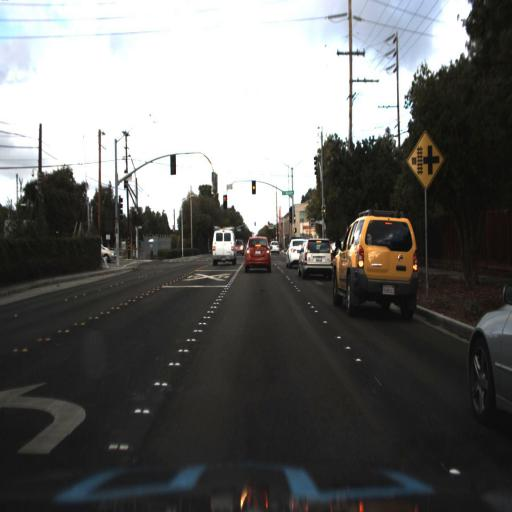car: (327, 204, 429, 325), (466, 272, 512, 431), (237, 230, 278, 276), (296, 233, 330, 281), (209, 228, 236, 264), (287, 237, 302, 273), (101, 245, 119, 264)
trafficLight: (250, 180, 258, 207), (222, 190, 230, 209)
trafficLight-Red: (291, 206, 298, 228)
